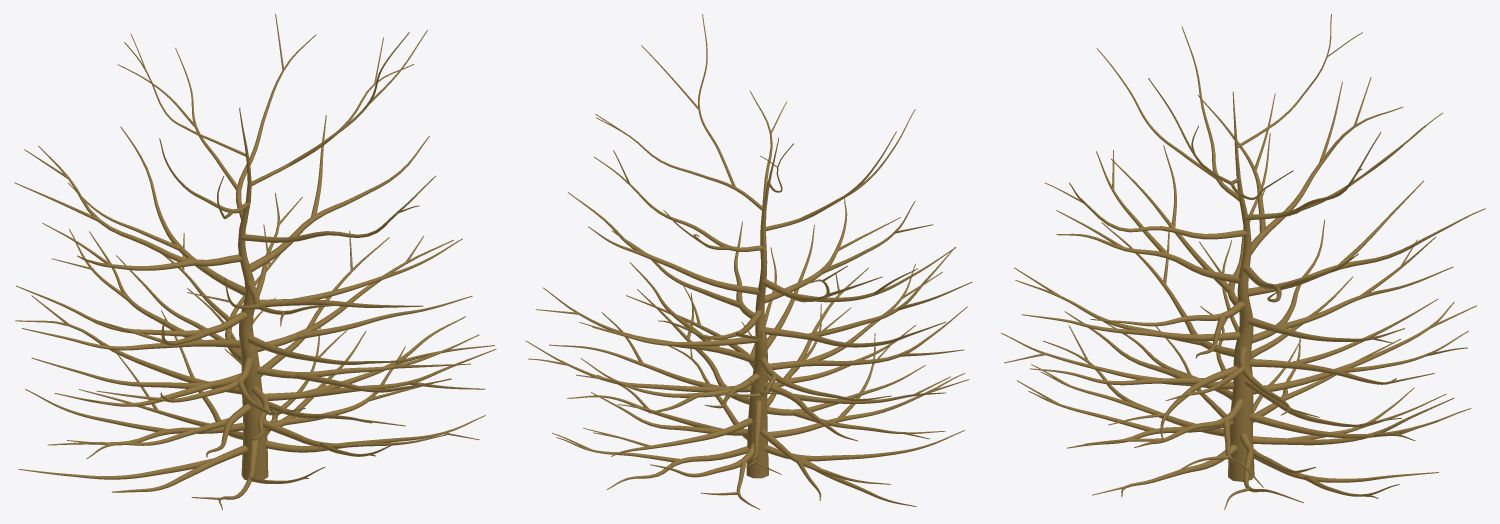
Rendered from Dead bush.fbx.
The picture shows the model from 3 angles, left to right: view 1: azimuth 30°, elevation 25°; view 2: azimuth 150°, elevation 25°; view 3: azimuth 270°, elevation 25°; orthographic projection. The views are drawn at different scales.
Visible parts, largest first — view 1: tree; view 2: tree; view 3: tree.
Boxes of the visible parts, left/top/right/bottom form: tree: left=14, top=14, right=496, bottom=509; tree: left=525, top=14, right=972, bottom=509; tree: left=1001, top=14, right=1485, bottom=509.
Bounding box in the file's own units: 1.59 × 1.53 × 1.49.
